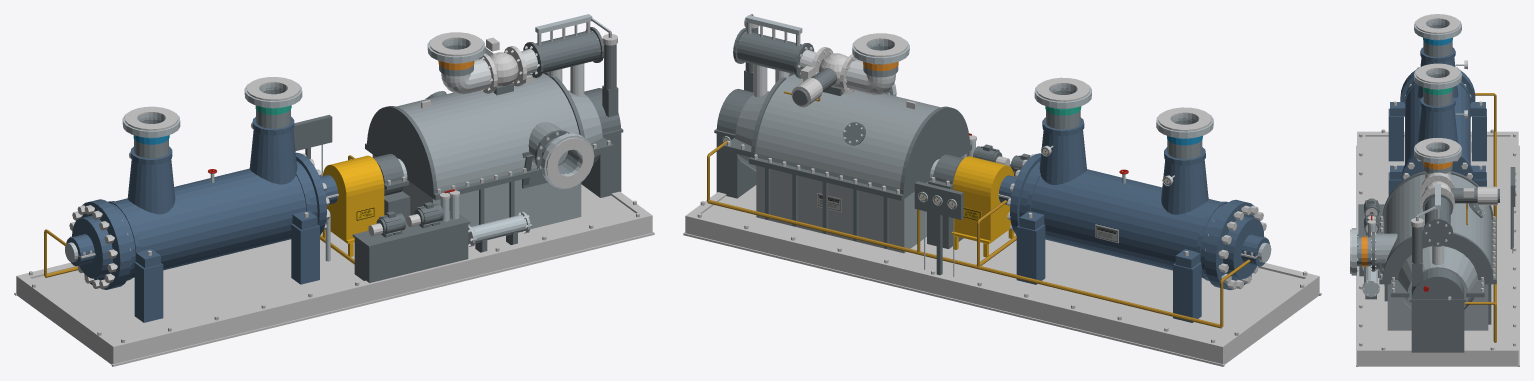
File: compact.obj
3 views of the same model, side by side, from view 1: azimuth 30°, elevation 25°; view 2: azimuth 150°, elevation 25°; view 3: azimuth 270°, elevation 25° (orthographic). The views are drawn at different scales.
Bounding box in the file's own units: 0.9 × 0.3025 × 0.2924.
